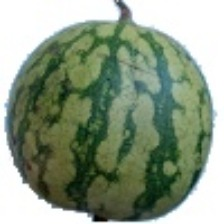watermelon: (0, 34, 196, 197)
